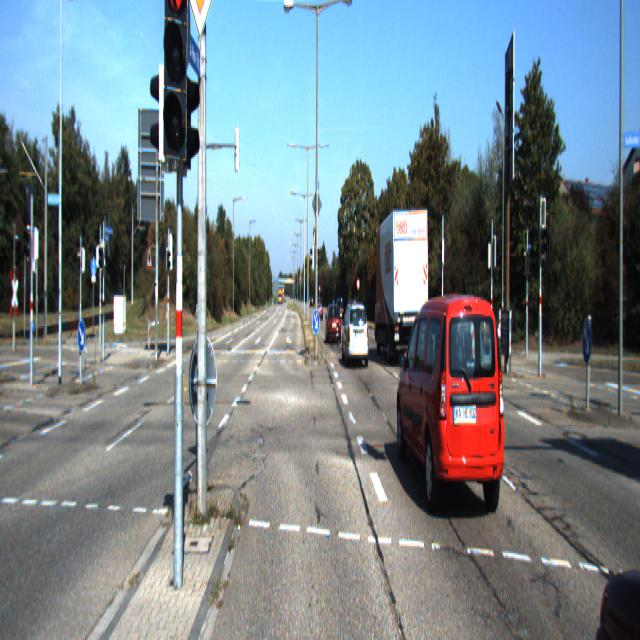Car: (395, 284, 507, 532), (589, 374, 639, 638), (372, 204, 429, 368), (452, 302, 493, 355), (341, 300, 370, 370), (326, 303, 341, 346)
